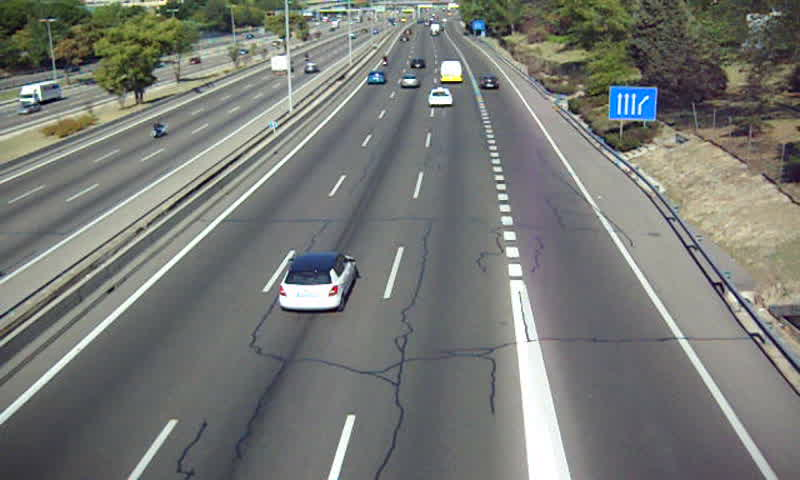car: (278, 254, 356, 310), (427, 88, 454, 107), (398, 75, 420, 90), (366, 72, 384, 88), (477, 76, 499, 89)
van: (438, 61, 463, 84)
